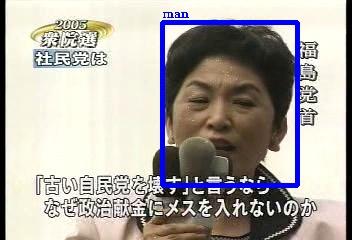man: (162, 22, 297, 185)
